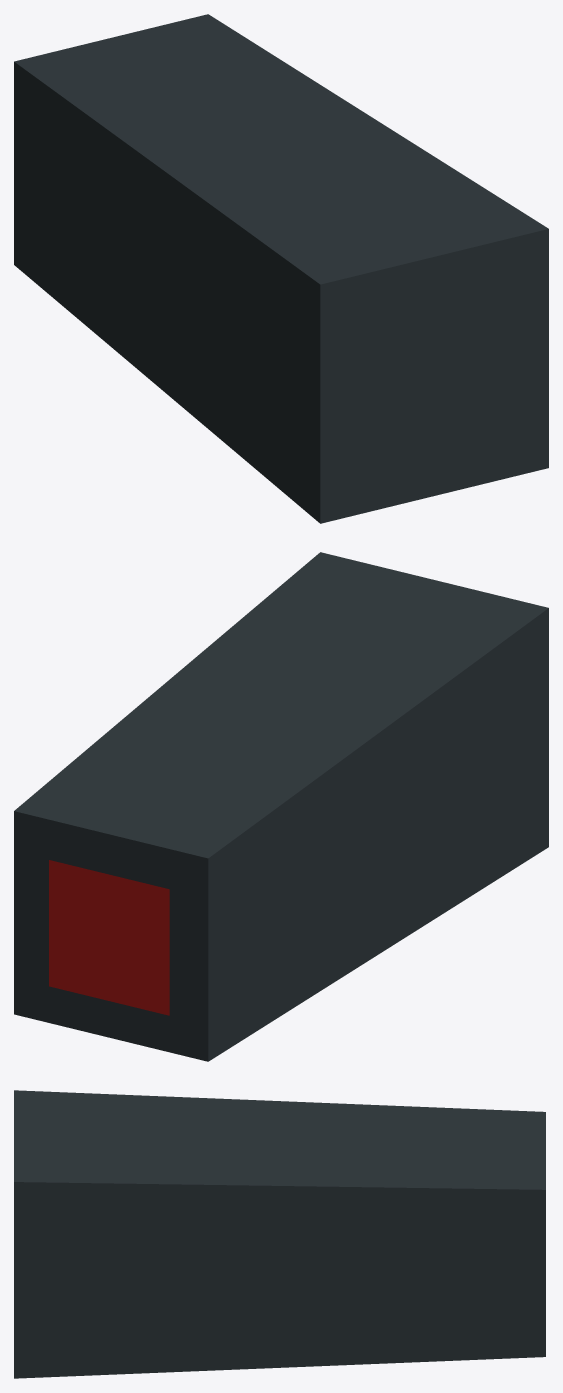
3 renders of one model, top to bottom at view 1: azimuth 30°, elevation 25°; view 2: azimuth 150°, elevation 25°; view 3: azimuth 270°, elevation 25°, orthographic. The views are drawn at different scales.
Parts seen in each view (by area): view 1: mount; view 2: mount; view 3: mount.
Part boxes in pixels (<box>): mount: <box>14,14,548,523</box>; mount: <box>14,552,548,1061</box>; mount: <box>14,1090,545,1378</box>.
Bounding box in the file's own units: 2.12 × 2.12 × 5.23.
